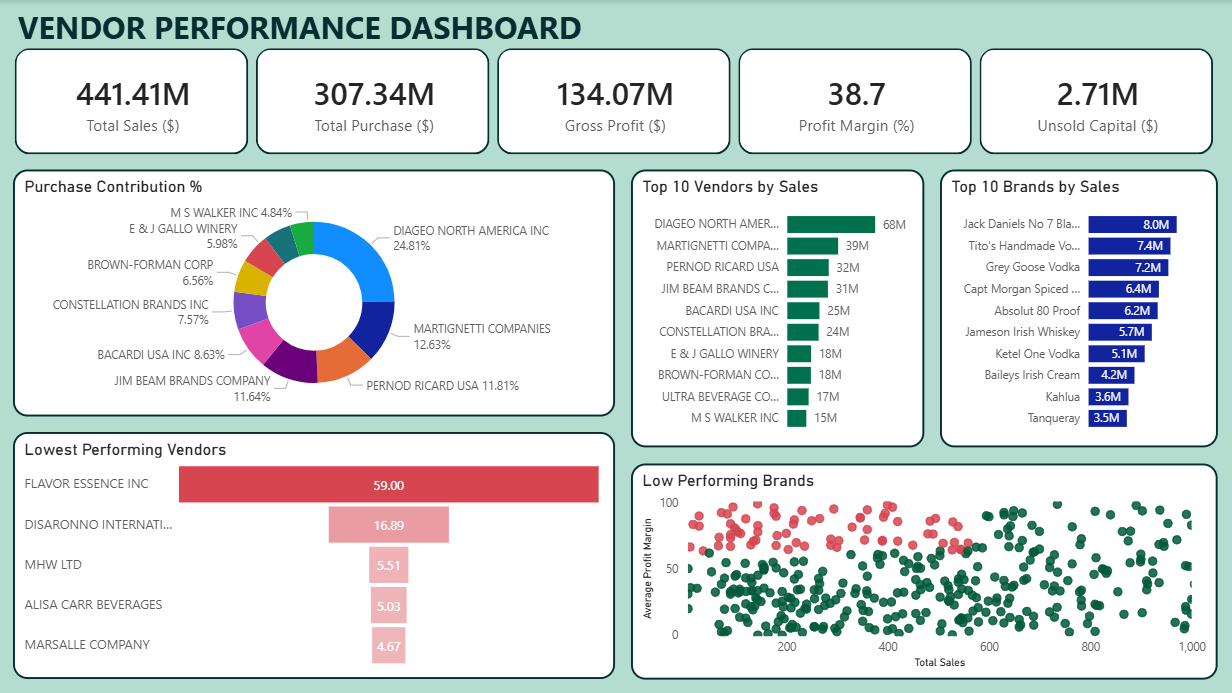

Layout of this report page (visuals, bound fields, positions):
{"tool":"powerbi","page":{"name":"Page 1","canvas":[1280,720],"ordinal":0},"visuals":[{"type":"textbox","box":[16,0,608,64],"z":0},{"type":"cardVisual","fields":{"Data":["Sum(vendor_sales_summary.TotalSalesDollars)","Sum(vendor_sales_summary.TotalPurchaseDollars)","Sum(vendor_sales_summary.GrossProfit)","Avg(vendor_sales_summary.ProfitMargin)","Sum(vendor_sales_summary.UnsoldInventoryValue)"]},"box":[0,32,1280,144],"z":1000},{"type":"donutChart","title":"Purchase Contribution %","fields":{"Category":["vendor_sales_summary.VendorName"],"Y":["Sum(vendor_sales_summary.TotalPurchaseDollars)"]},"box":[16,176,624,256],"z":2000},{"type":"barChart","title":"Top 10 Vendors by Sales","fields":{"Category":["vendor_sales_summary.VendorName"],"Y":["Sum(vendor_sales_summary.TotalSalesDollars)"]},"box":[656,176,304,288],"z":3000},{"type":"barChart","title":"Top 10 Brands by Sales","fields":{"Y":["Sum(vendor_sales_summary.TotalSalesDollars)"],"Category":["vendor_sales_summary.Description"]},"box":[976,176,288,288],"z":4000},{"type":"funnel","title":"Lowest Performing Vendors","fields":{"Category":["vendor_sales_summary.VendorName"],"Y":["Avg(vendor_sales_summary.StockTurnover)"]},"box":[16,448,624,256],"z":5000},{"type":"scatterChart","title":"Low Performing Brands","fields":{"Y":["Avg(vendor_sales_summary.ProfitMargin)"],"X":["Sum(vendor_sales_summary.TotalSalesDollars)"],"Category":["vendor_sales_summary.Description"]},"box":[656,480,608,224],"z":6000}]}

Visuals, with their boxes in screenshot pixels (x1, y1, x2, y2), scaled from the page's 1280x720 canvas onto the 1232x693 screenshot:
textbox: bbox=(15, 0, 601, 62)
cardVisual - Sum(vendor_sales_summary.TotalSalesDollars) x Sum(vendor_sales_summary.TotalPurchaseDollars): bbox=(0, 31, 1231, 169)
"Purchase Contribution %" donutChart: bbox=(15, 169, 616, 416)
"Top 10 Vendors by Sales" barChart: bbox=(631, 169, 924, 447)
"Top 10 Brands by Sales" barChart: bbox=(939, 169, 1217, 447)
"Lowest Performing Vendors" funnel: bbox=(15, 431, 616, 678)
"Low Performing Brands" scatterChart: bbox=(631, 462, 1217, 678)
